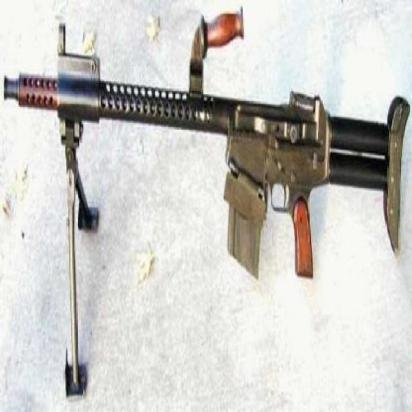Gun: (4, 69, 409, 273)
